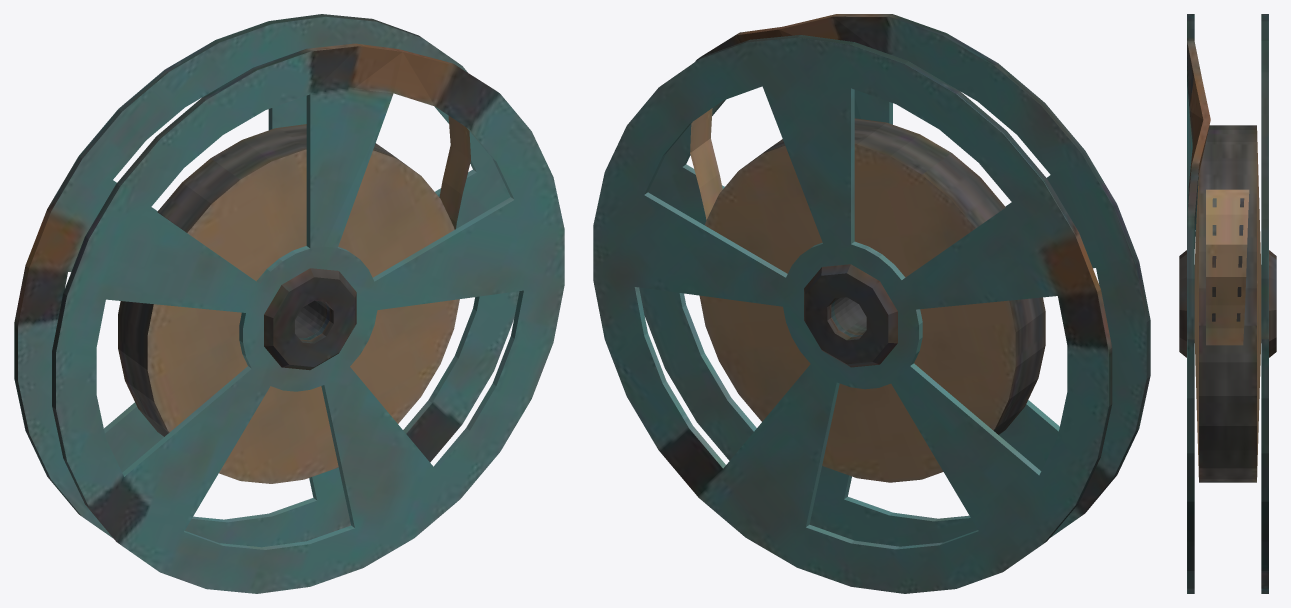
Rendered from P19_projector_reel.glb.
3 renders of one model, left to right at view 1: azimuth 30°, elevation 25°; view 2: azimuth 150°, elevation 25°; view 3: azimuth 270°, elevation 25°, orthographic. The views are drawn at different scales.
Parts seen in each view (by area): view 1: Projector Reel; view 2: Projector Reel; view 3: Projector Reel.
Boxes of the visible parts, x1,y1,x2,y2 form: Projector Reel: [14, 14, 564, 593]; Projector Reel: [593, 14, 1150, 593]; Projector Reel: [1179, 14, 1276, 593].
Size of the model in its own units: 0.2486 by 0.25 by 0.042.
Materials: 5 (5 with a texture image).
